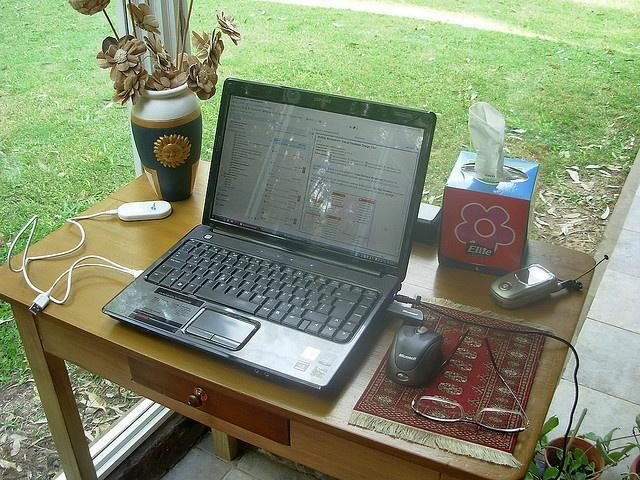Meja: (0, 153, 597, 479)
